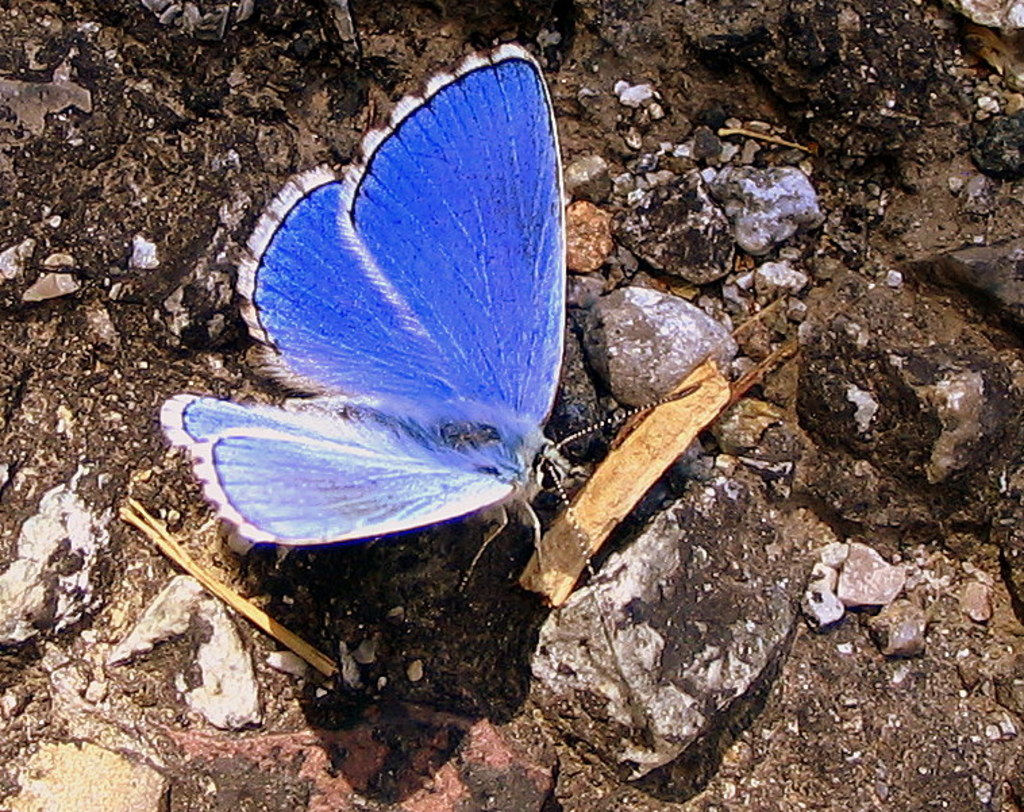Butterfly: (161, 38, 671, 617)
